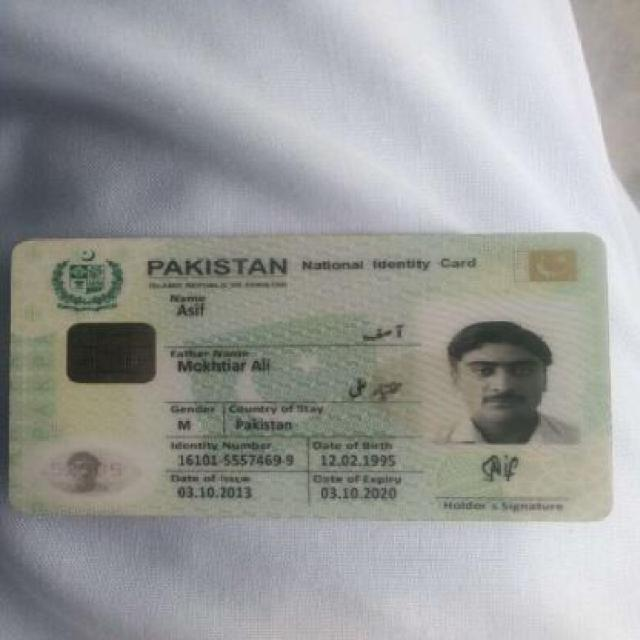Front: (7, 232, 616, 526)
